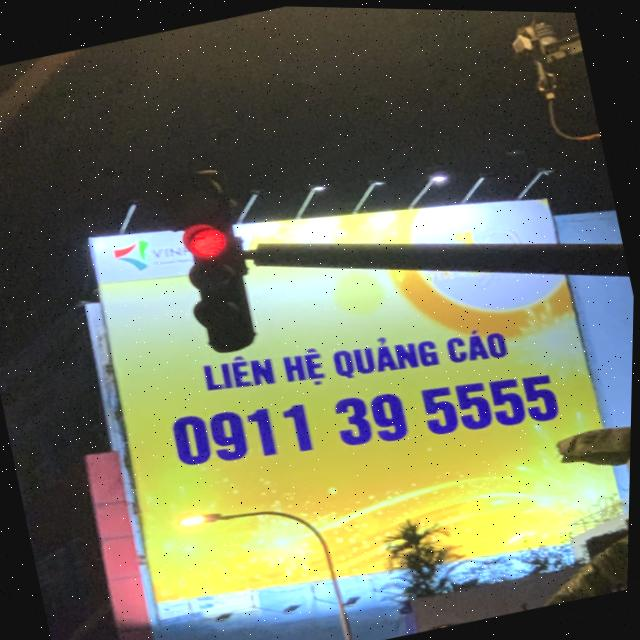Red: (173, 210, 264, 348)
